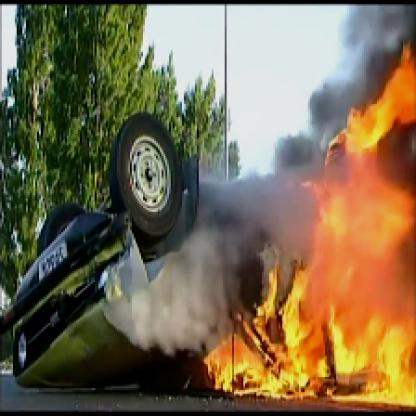Fire: (188, 54, 414, 414)
